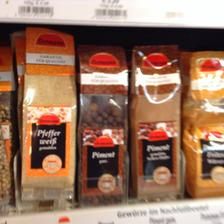Gewuerze: (19, 26, 77, 202), (77, 42, 129, 202), (130, 42, 182, 198), (185, 49, 223, 197)
